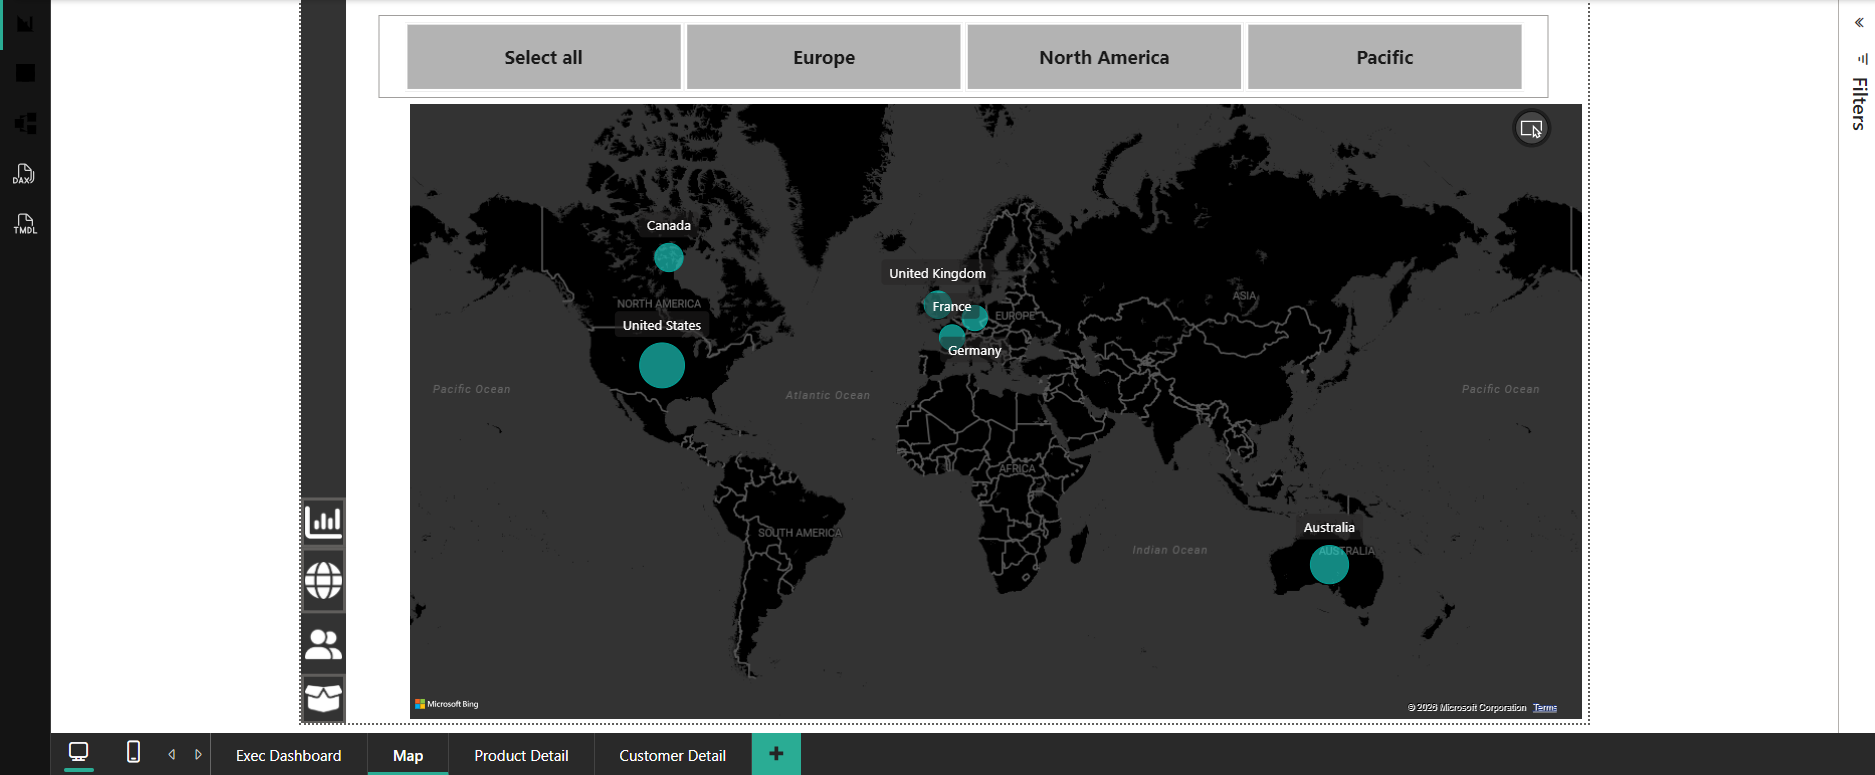

What the dashboard file says about the page in this screenshot:
{"tool":"powerbi","page":{"name":"Map","canvas":[1280,720],"ordinal":1},"visuals":[{"type":"shape","box":[0,0,45,720.7],"z":0},{"type":"map","fields":{"Category":["Territory Lookup.Country"],"Size":["Measure Table.Total Orders"]},"box":[103.2,98.3,1176.8,622],"z":1000},{"type":"slicer","fields":{"Values":["Territory Lookup.Continent"]},"box":[77.6,15.5,1163.8,82.8],"z":2000},{"type":"actionButton","box":[0,670,44.8,50],"z":3000},{"type":"actionButton","box":[0,494.8,44.8,50],"z":4000},{"type":"actionButton","box":[0,544.8,44.8,65.5],"z":5000},{"type":"actionButton","box":[0,610.3,44.8,60.3],"z":6000}]}

Visuals, with their boxes in screenshot pixels (x1, y1, x2, y2):
shape: bbox(293, 0, 339, 734)
map - Territory Lookup.Country x Measure Table.Total Orders: bbox(399, 96, 1606, 734)
slicer - Territory Lookup.Continent: bbox(373, 11, 1566, 96)
actionButton: bbox(293, 682, 339, 734)
actionButton: bbox(293, 503, 339, 554)
actionButton: bbox(293, 554, 339, 621)
actionButton: bbox(293, 621, 339, 683)
